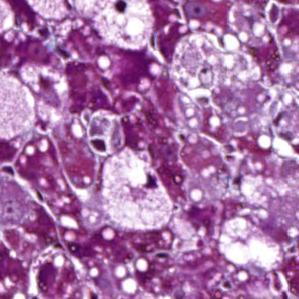ballooning: (100, 144, 175, 232), (75, 2, 156, 51), (219, 218, 285, 274), (2, 72, 38, 150)
